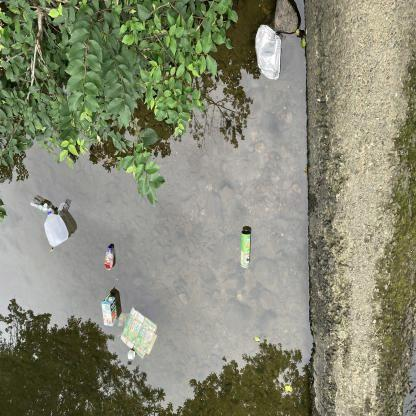Metal: (249, 18, 286, 86), (237, 226, 258, 271)
Plastic: (30, 199, 73, 250), (101, 242, 121, 278)
